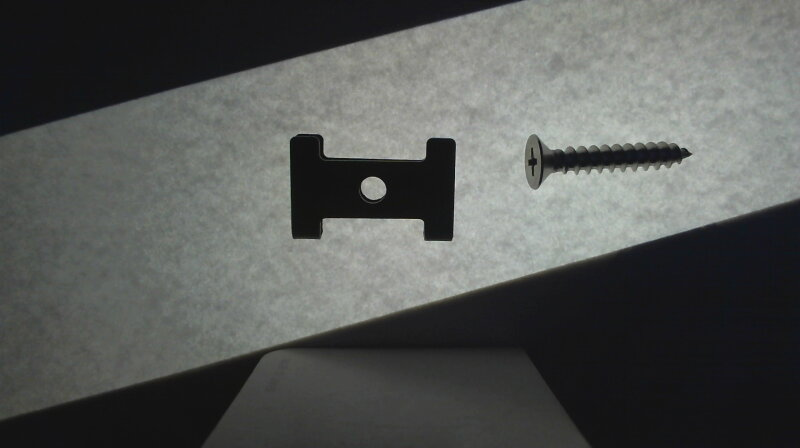O002: (286, 128, 460, 246)
S001: (520, 129, 696, 188)
